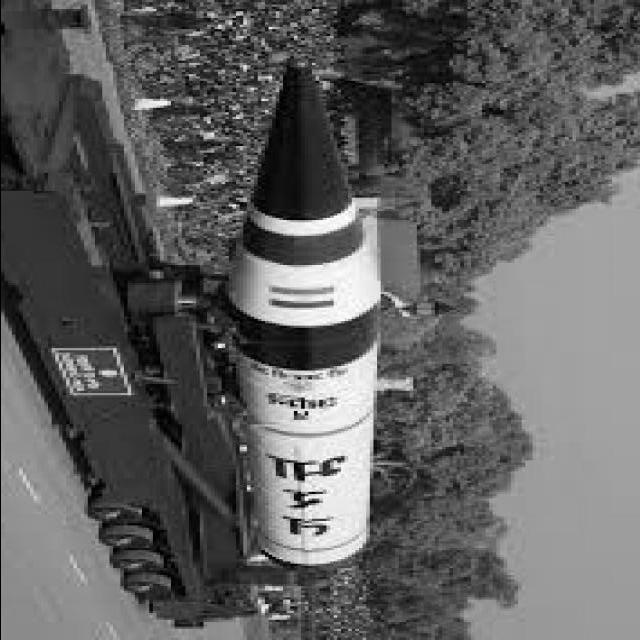Missile: (229, 51, 390, 592)
